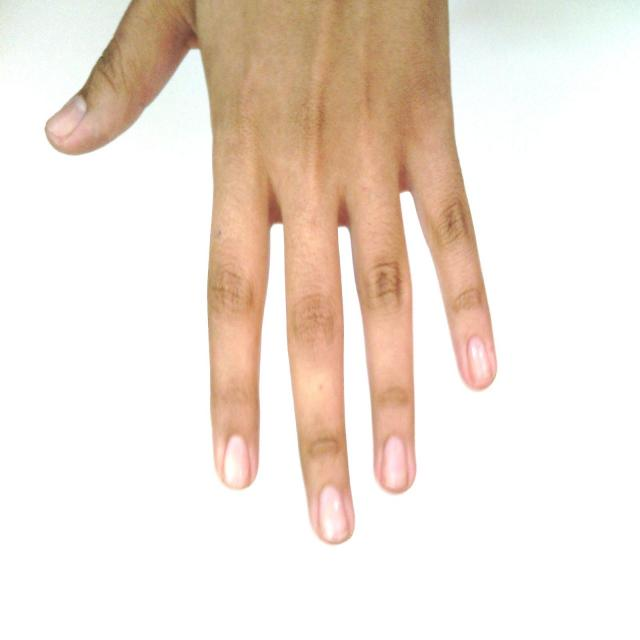others: (40, 2, 562, 540)
